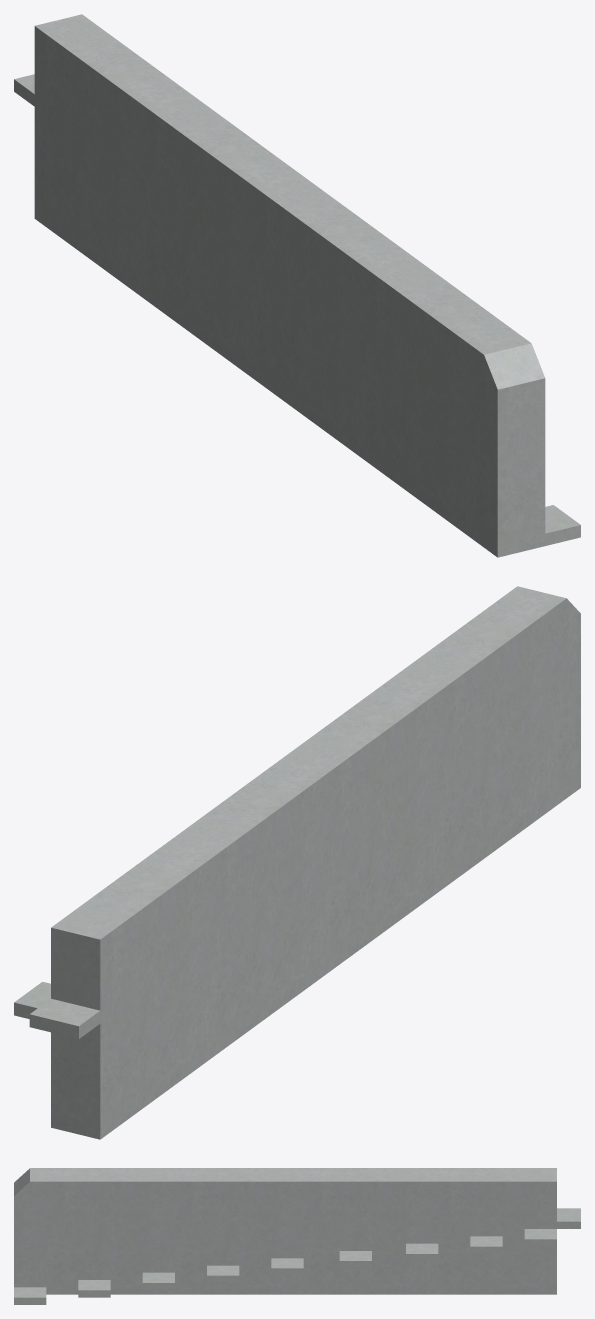
Rendered from parede.obj.
The picture shows the model from 3 angles, top to bottom: view 1: azimuth 30°, elevation 25°; view 2: azimuth 150°, elevation 25°; view 3: azimuth 270°, elevation 25°; orthographic projection. The views are drawn at different scales.
Parts seen in each view (by area): view 1: entity0_brush0, entity0_brush1; view 2: entity0_brush0, entity0_brush10, entity0_brush9; view 3: entity0_brush0, entity0_brush3, entity0_brush1, entity0_brush2, entity0_brush5, entity0_brush8, entity0_brush9, entity0_brush4, entity0_brush6, entity0_brush7, entity0_brush10.
Boxes of the visible parts, left/top/right/bottom form: entity0_brush0: left=34, top=14, right=545, bottom=557; entity0_brush1: left=545, top=505, right=580, bottom=545; entity0_brush0: left=51, top=586, right=580, bottom=1139; entity0_brush10: left=29, top=998, right=100, bottom=1038; entity0_brush9: left=14, top=981, right=50, bottom=1018; entity0_brush0: left=14, top=1168, right=556, bottom=1294; entity0_brush3: left=142, top=1272, right=174, bottom=1290; entity0_brush1: left=14, top=1287, right=46, bottom=1304; entity0_brush2: left=78, top=1280, right=110, bottom=1297; entity0_brush5: left=271, top=1258, right=303, bottom=1275; entity0_brush8: left=470, top=1236, right=502, bottom=1253; entity0_brush9: left=524, top=1229, right=556, bottom=1246; entity0_brush4: left=207, top=1265, right=239, bottom=1282; entity0_brush6: left=339, top=1251, right=371, bottom=1268; entity0_brush7: left=406, top=1243, right=438, bottom=1260; entity0_brush10: left=557, top=1208, right=580, bottom=1228.
Bounding box in the file's own units: 112 × 248 × 1128.
